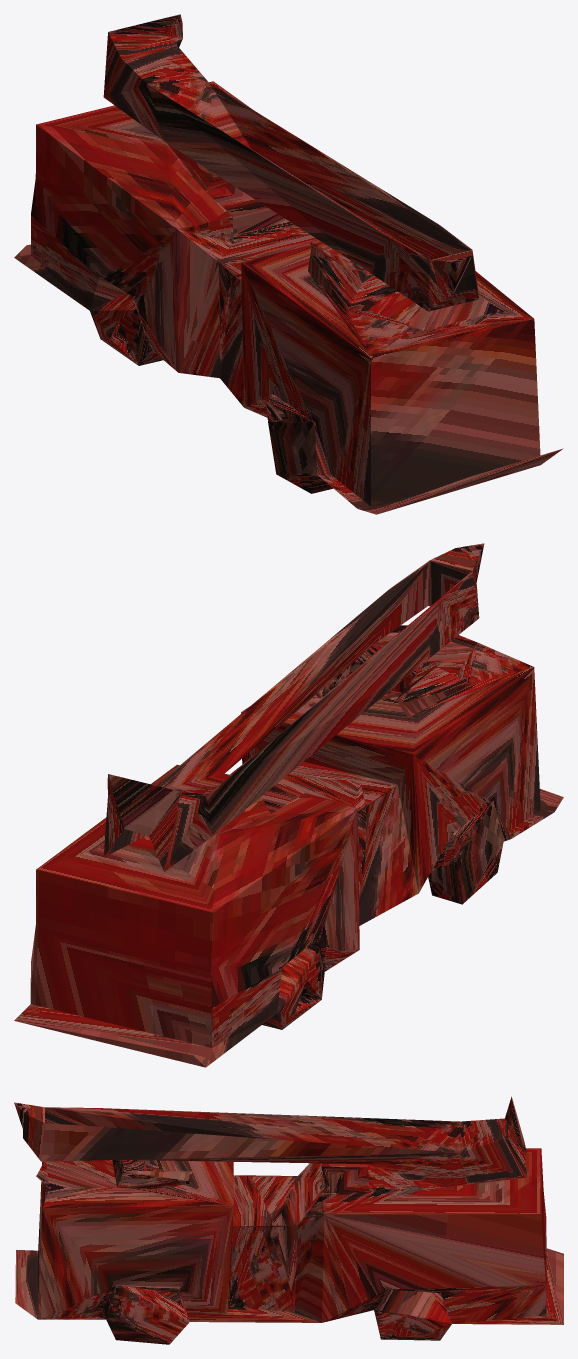
3 views of the same model, one above another, from view 1: azimuth 30°, elevation 25°; view 2: azimuth 150°, elevation 25°; view 3: azimuth 270°, elevation 25° (orthographic). The views are drawn at different scales.
Visible parts, largest first — view 1: Object_2; view 2: Object_2; view 3: Object_2.
Part boxes in pixels (x1,y1,x2,y2): Object_2: (14, 14, 563, 514); Object_2: (14, 543, 563, 1067); Object_2: (14, 1096, 563, 1344).
Size of the model in its own units: 0.583 by 0.7564 by 1.86.
1 material, 1 textured.
